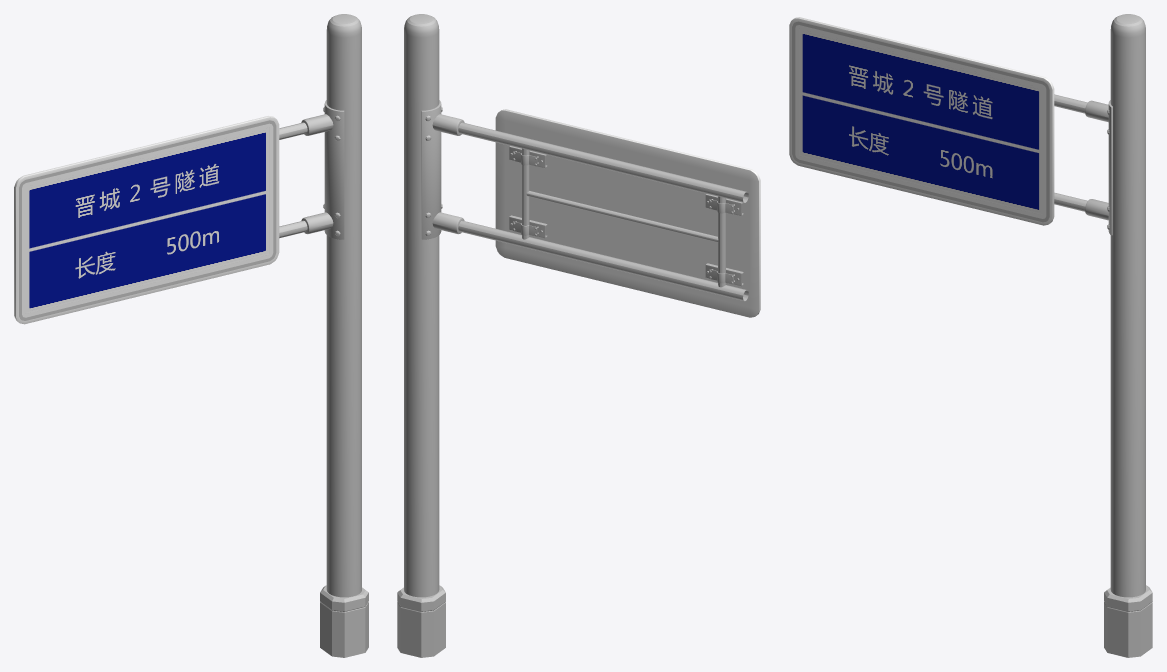
File: indicator.obj
3 views of the same model, side by side, from view 1: azimuth 30°, elevation 25°; view 2: azimuth 150°, elevation 25°; view 3: azimuth 330°, elevation 25° (orthographic).
Parts seen in each view (by area): view 1: Gantry_01_Sign_A_01_1, Gantry_01_Pole_A_1, Gantry_01_Pole_B_1, Gantry_01_Sign_A_02_1; view 2: Gantry_01_Sign_A_01_1, Gantry_01_Pole_A_1, Gantry_01_Pole_B_1, Gantry_01_Sign_Mount_A_01_1, Gantry_01_Sign_Mount_A_02_1; view 3: Gantry_01_Sign_A_01_1, Gantry_01_Pole_A_1, Gantry_01_Sign_A_02_1, Gantry_01_Pole_B_1.
Part boxes in pixels (x1=…): Gantry_01_Sign_A_01_1: x1=14, y1=116, x2=279, y2=324; Gantry_01_Pole_A_1: x1=320, y1=14, x2=368, y2=657; Gantry_01_Pole_B_1: x1=279, y1=100, x2=344, y2=239; Gantry_01_Sign_A_02_1: x1=19, y1=120, x2=276, y2=320; Gantry_01_Sign_A_01_1: x1=495, y1=109, x2=760, y2=317; Gantry_01_Pole_A_1: x1=397, y1=14, x2=445, y2=657; Gantry_01_Pole_B_1: x1=421, y1=100, x2=748, y2=301; Gantry_01_Sign_Mount_A_01_1: x1=522, y1=148, x2=725, y2=287; Gantry_01_Sign_Mount_A_02_1: x1=509, y1=146, x2=743, y2=286; Gantry_01_Sign_A_01_1: x1=789, y1=17, x2=1054, y2=225; Gantry_01_Pole_A_1: x1=1104, y1=14, x2=1152, y2=657; Gantry_01_Sign_A_02_1: x1=792, y1=21, x2=1049, y2=222; Gantry_01_Pole_B_1: x1=1054, y1=94, x2=1112, y2=235.
Bounding box in the file's own units: 124 × 212 × 12.94.
